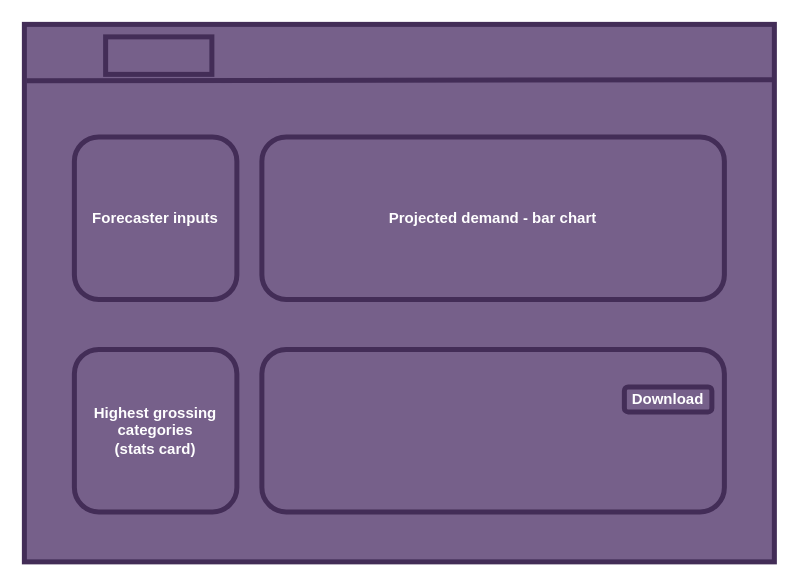
This 798x585 diagram has some shape labels left out. Each missing label, with the box of its shape:
Detailed data table - projected data: (259, 346, 726, 514)
Navigation: (102, 34, 214, 76)
